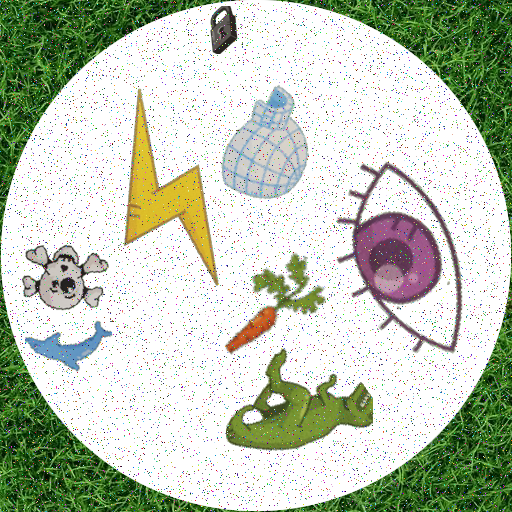carrot_icon: (215, 250, 341, 376)
dino_icon: (226, 348, 373, 495)
dolphin_icon: (25, 300, 113, 388)
eye_icon: (304, 157, 510, 363)
igloo_icon: (207, 82, 326, 201)
lightning_icon: (69, 88, 269, 288)
lock_icon: (198, 6, 246, 54)
skull_icon: (12, 229, 111, 328)
